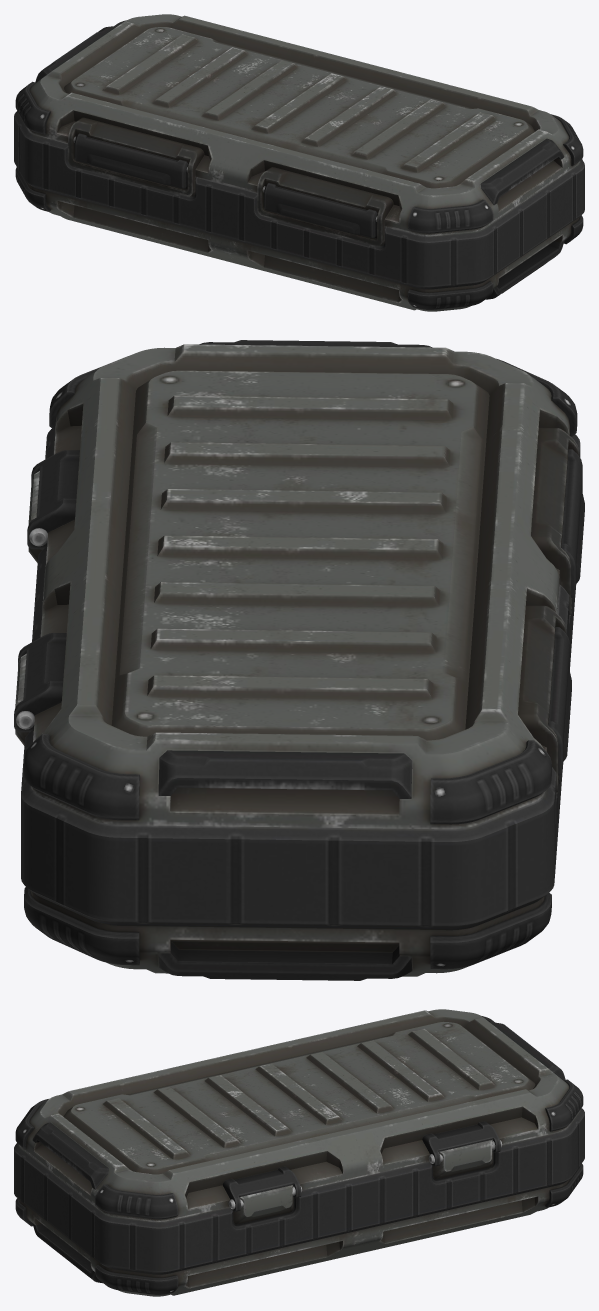
The model's file is misc-item-2.glb.
The picture shows the model from 3 angles, top to bottom: view 1: azimuth 30°, elevation 25°; view 2: azimuth 150°, elevation 25°; view 3: azimuth 270°, elevation 25°; orthographic projection. The views are drawn at different scales.
Visible parts, largest first — view 1: Upper box.001; view 2: Upper box.001; view 3: Upper box.001.
Part boxes in pixels (x1=…): Upper box.001: x1=14, y1=14, x2=584, y2=311; Upper box.001: x1=14, y1=340, x2=584, y2=980; Upper box.001: x1=14, y1=1009, x2=584, y2=1296.
Size of the model in its own units: 3.43 by 1.01 by 4.24.
Materials: 1 (1 with a texture image).
